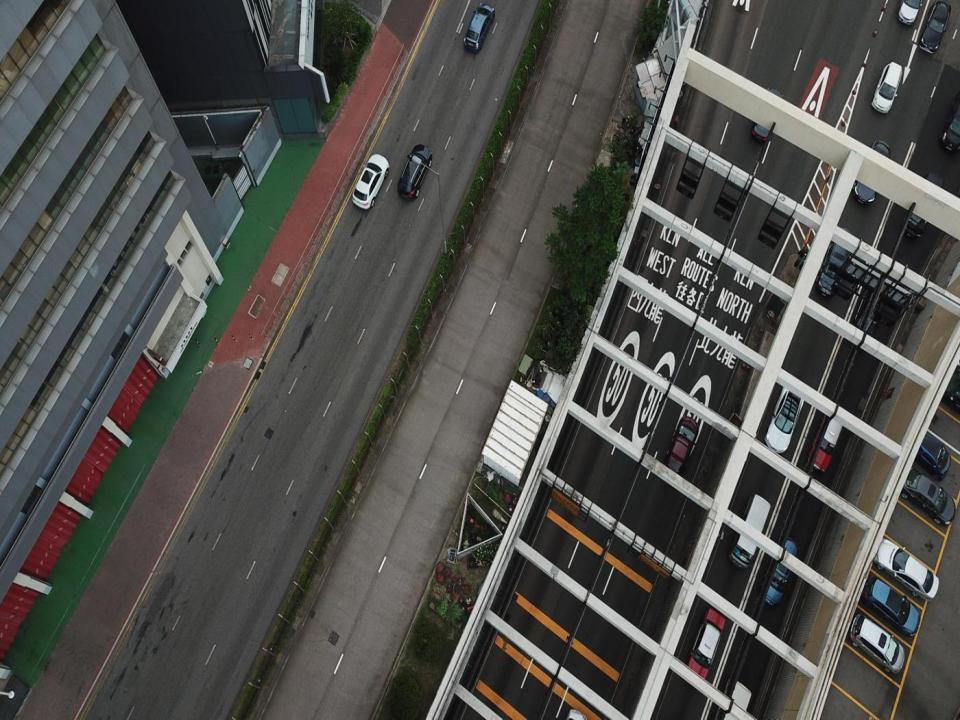bus: (712, 679, 752, 719)
car: (873, 538, 939, 600), (861, 575, 920, 634), (849, 613, 905, 674), (898, 465, 955, 524), (685, 606, 724, 681), (764, 382, 804, 453), (762, 536, 799, 606), (852, 140, 891, 204), (809, 405, 845, 472), (911, 426, 951, 481), (663, 417, 699, 476), (396, 142, 432, 198), (352, 154, 389, 208), (918, 1, 952, 53), (752, 87, 782, 142), (463, 3, 494, 51), (938, 368, 960, 411), (897, 0, 922, 26)
van: (728, 494, 770, 570), (902, 172, 944, 238), (816, 226, 852, 297), (871, 62, 902, 114), (940, 90, 960, 154)
